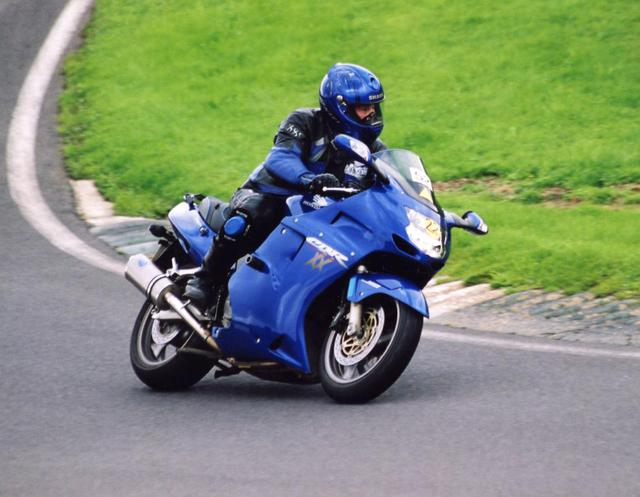helmet: (315, 64, 393, 140)
